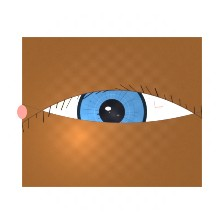pinguecula_lesion: (44, 90, 78, 118)
